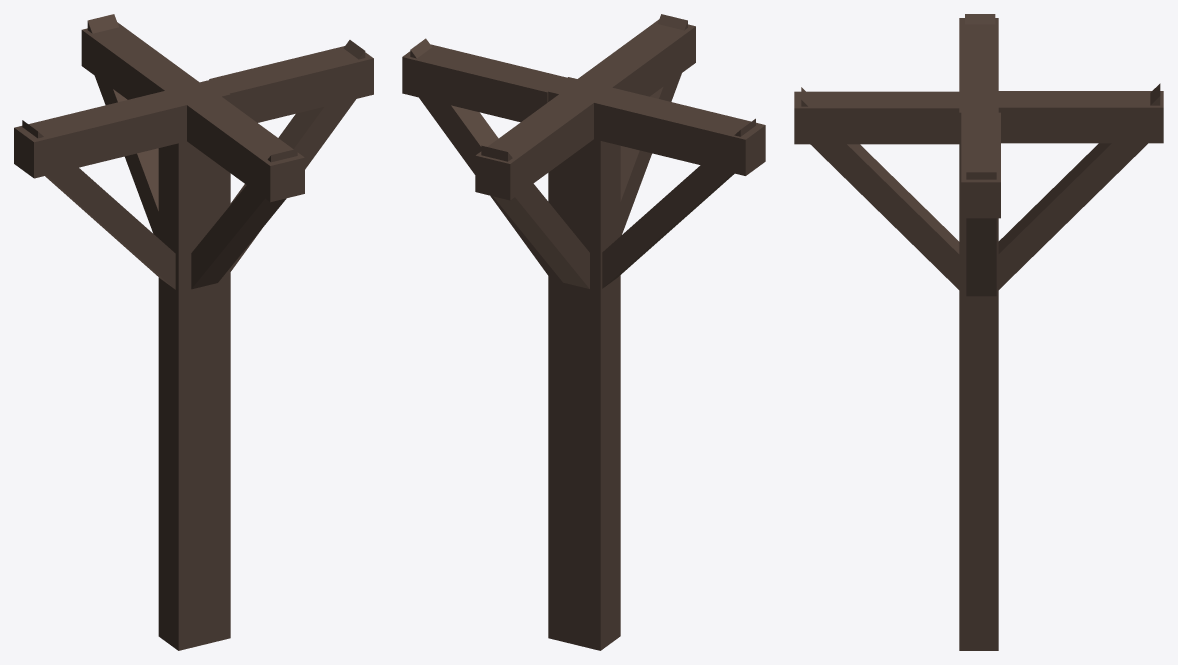
The model's file is M_Balk_X.fbx.
The picture shows the model from 3 angles, left to right: view 1: azimuth 30°, elevation 25°; view 2: azimuth 150°, elevation 25°; view 3: azimuth 270°, elevation 25°; orthographic projection.
Parts seen in each view (by area): view 1: M_Balk_X; view 2: M_Balk_X; view 3: M_Balk_X.
Boxes of the visible parts, left/top/right/bottom form: M_Balk_X: left=14, top=14, right=373, bottom=650; M_Balk_X: left=402, top=14, right=765, bottom=650; M_Balk_X: left=794, top=14, right=1163, bottom=650.
Bounding box in the file's own units: 393 × 611 × 373.
